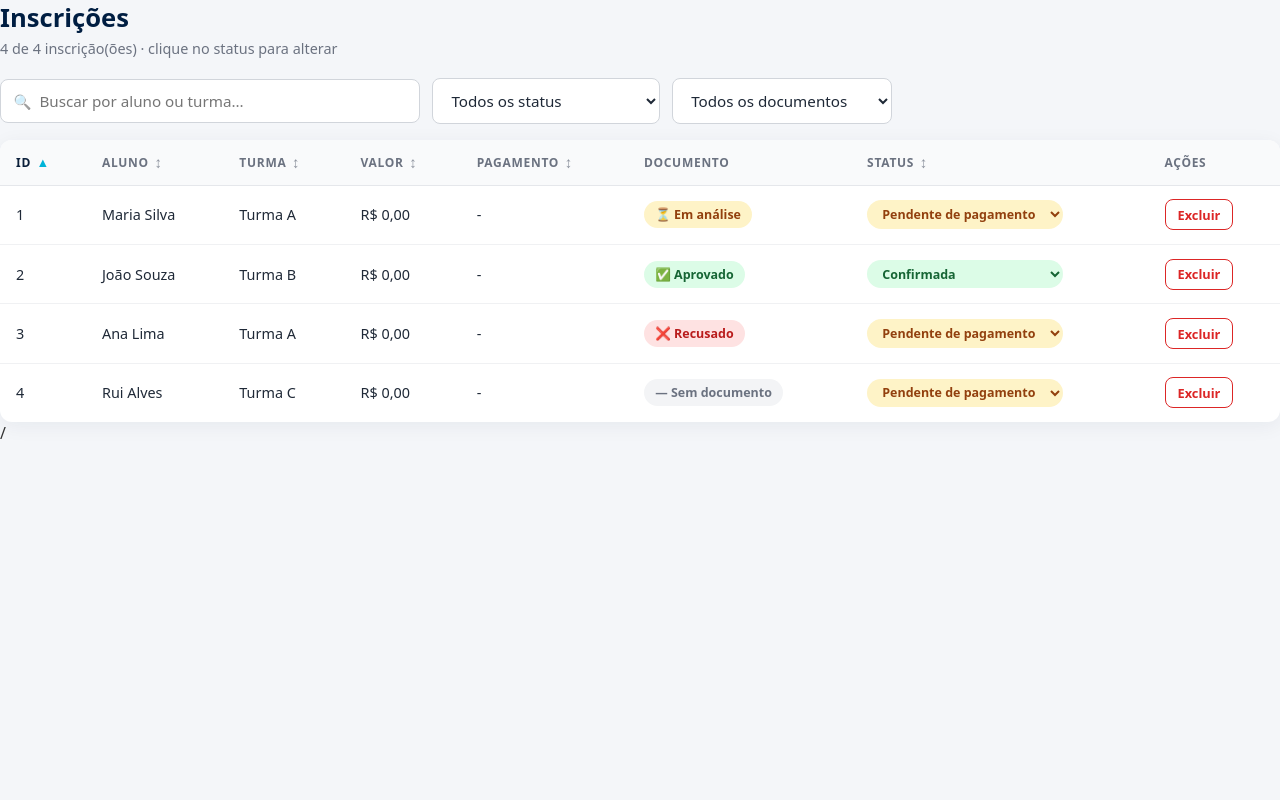
recusar pede o motivo, que vai para o aluno
The width and height of the screenshot is (1280, 800).
Expected: the text "Maria Silva" is shown, [86,185,223,244]
Click the button "⏳ Em análise": (698, 215) [644,201,752,228]
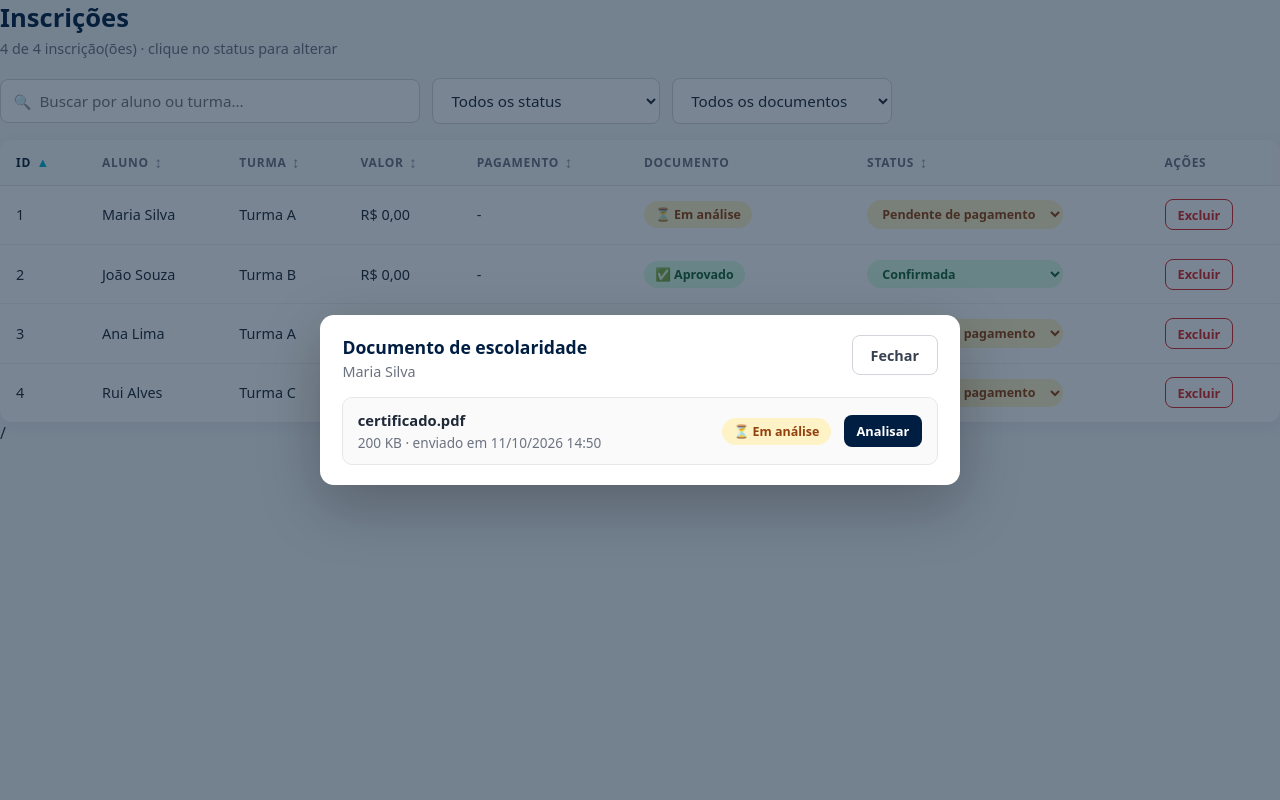
Click the button "Analisar": (883, 431) [844,416,922,447]
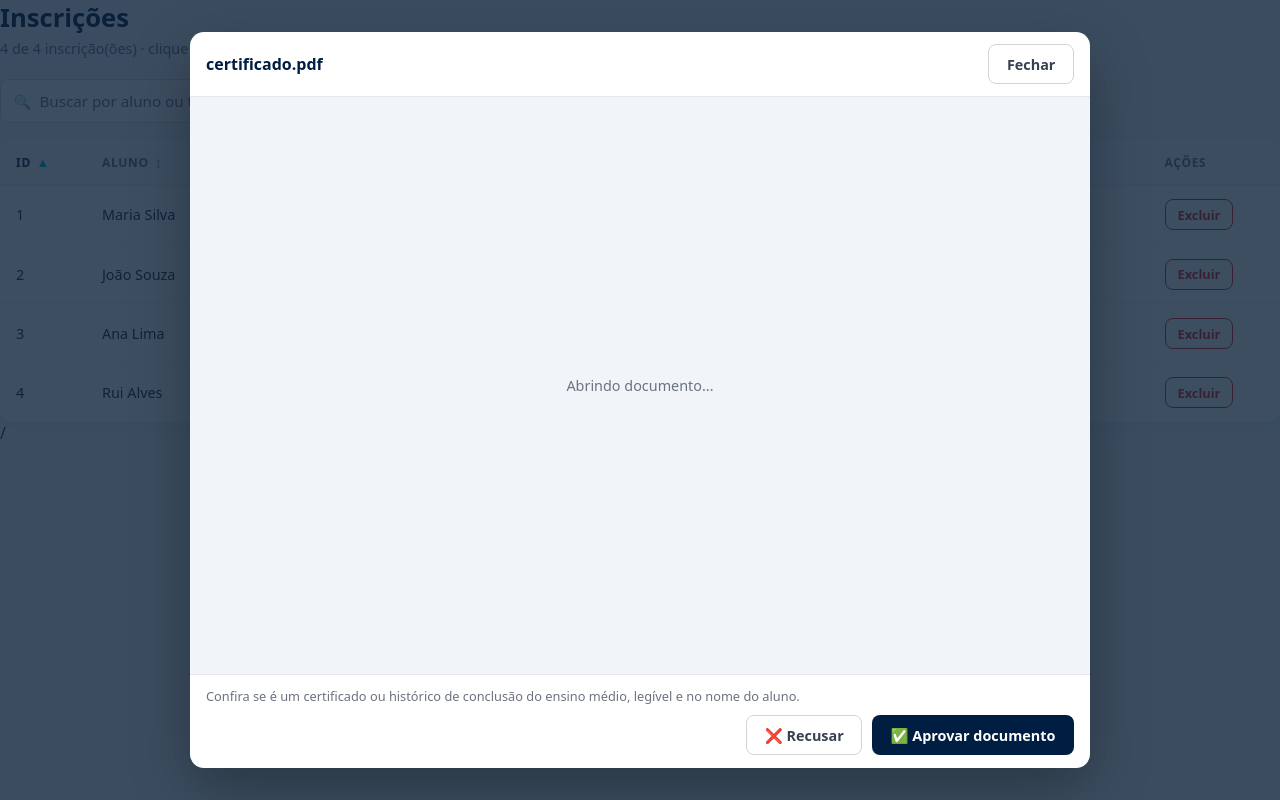
Click the button "❌ Recusar": (804, 735) [746,715,862,755]
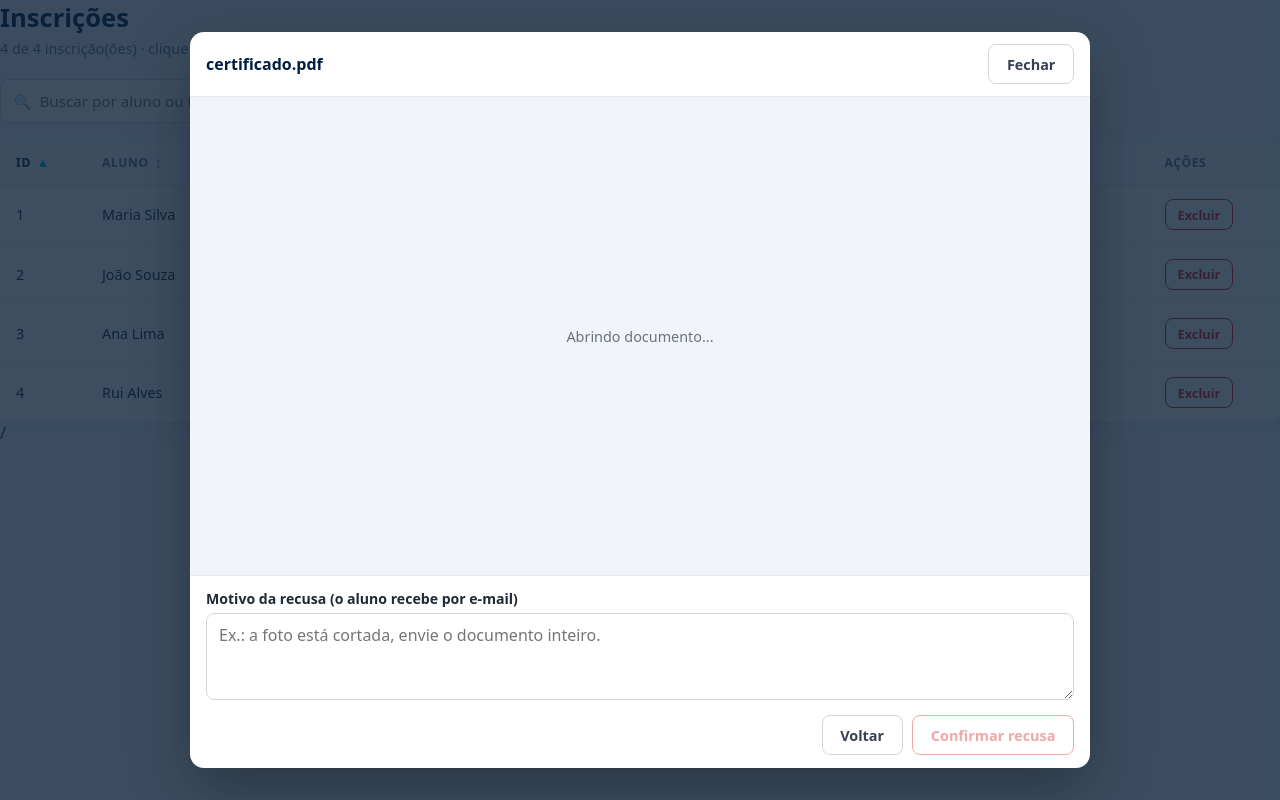
Result: the button "Confirmar recusa" is disabled at [912,715,1074,755]
In the text box labelled "Motivo da recusa (o aluno recebe por e-mail)": (640, 657) [206,613,1074,700], type "Foto cortada"
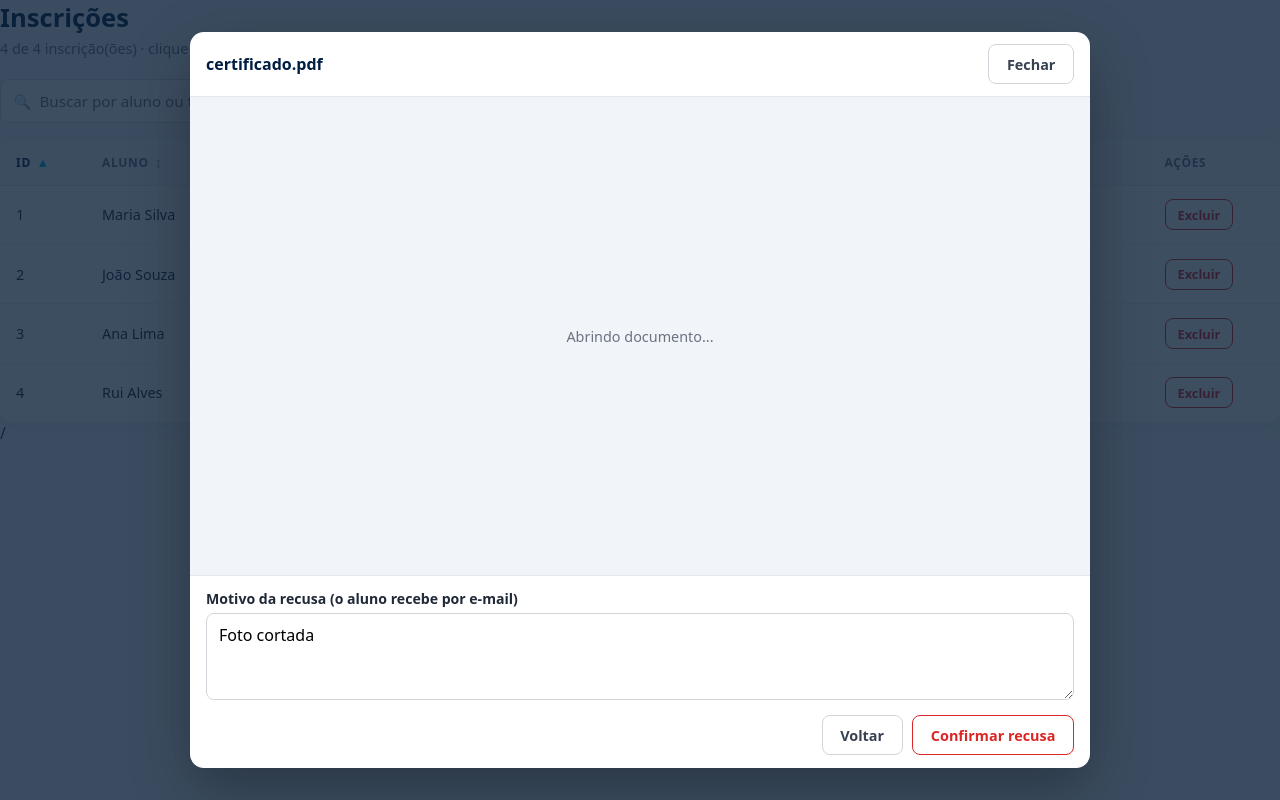
Click the button "Confirmar recusa": (993, 735) [912,715,1074,755]
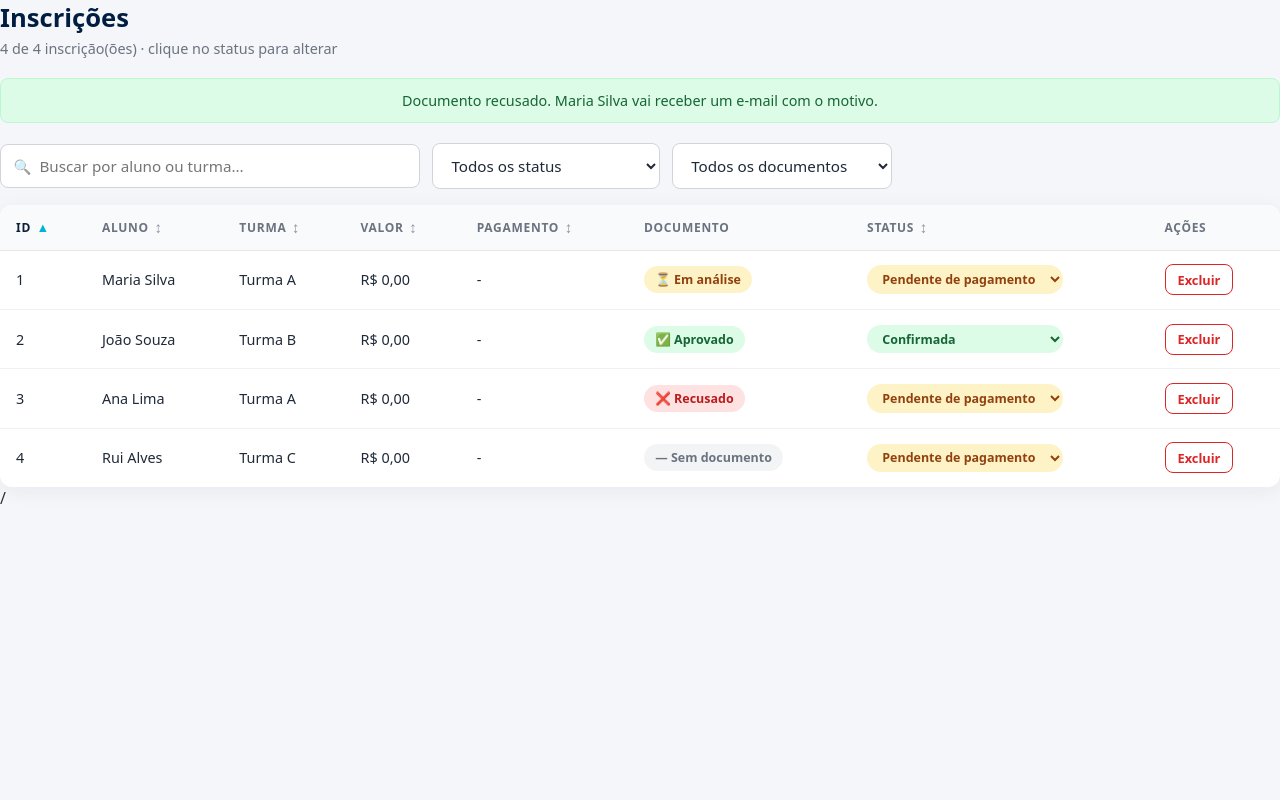
Result: the message shows "Maria Silva vai receber um e-mail com o motivo." at [402,91,878,110]
